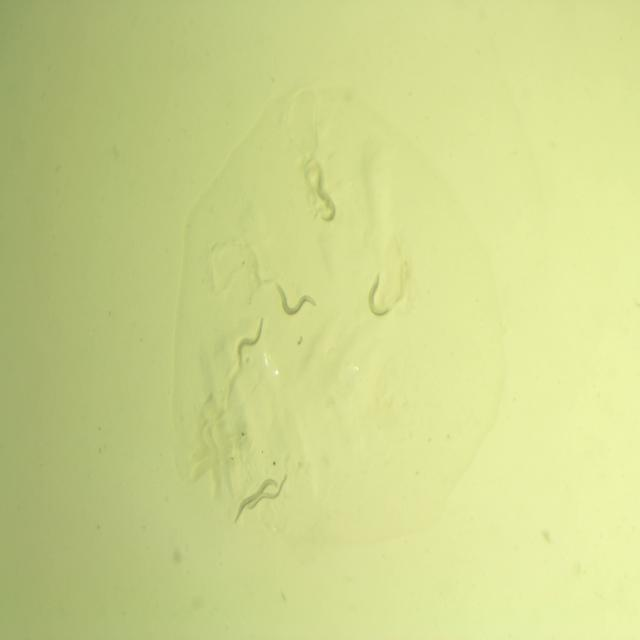worm: (231, 476, 282, 527), (307, 163, 344, 231), (241, 471, 289, 512), (234, 313, 269, 369), (272, 279, 318, 320), (363, 264, 392, 319)
